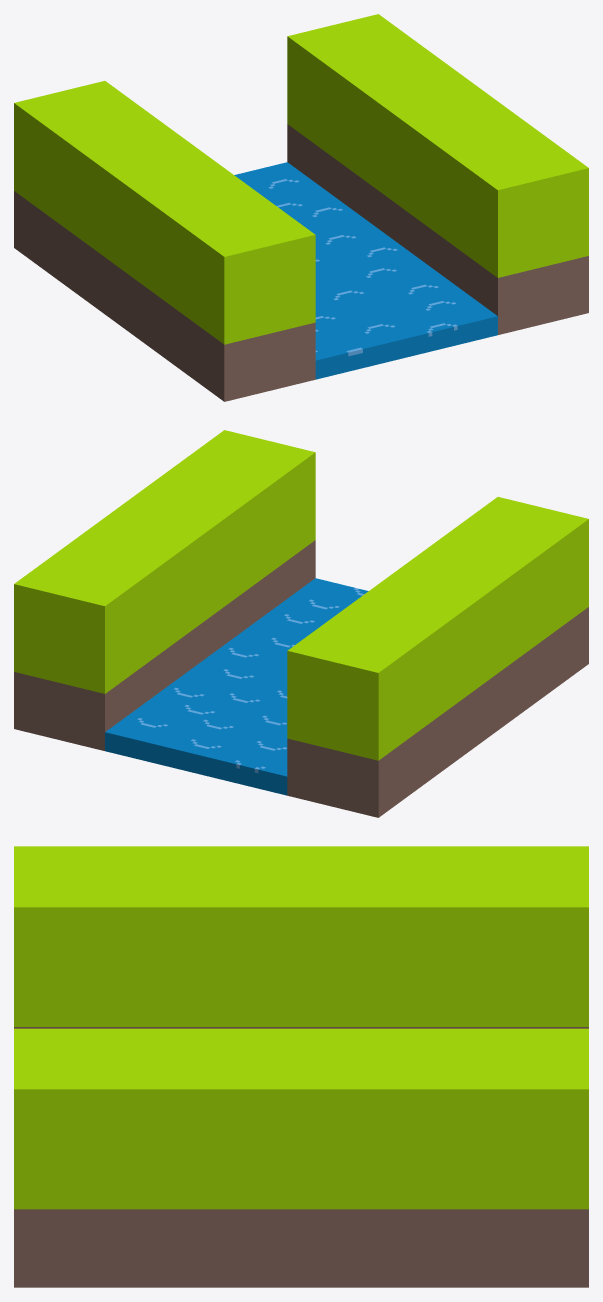
The model's file is River-1-River.obj.
3 renders of one model, top to bottom at view 1: azimuth 30°, elevation 25°; view 2: azimuth 150°, elevation 25°; view 3: azimuth 270°, elevation 25°, orthographic. The views are drawn at different scales.
Visible parts, largest first — view 1: River; view 2: River; view 3: River.
Part boxes in pixels (x1,y1,x2,y2): River: [14, 14, 588, 401]; River: [14, 430, 588, 817]; River: [14, 846, 588, 1287].
Bounding box in the file's own units: 10 × 3.8 × 10.
1 material, 1 textured.
